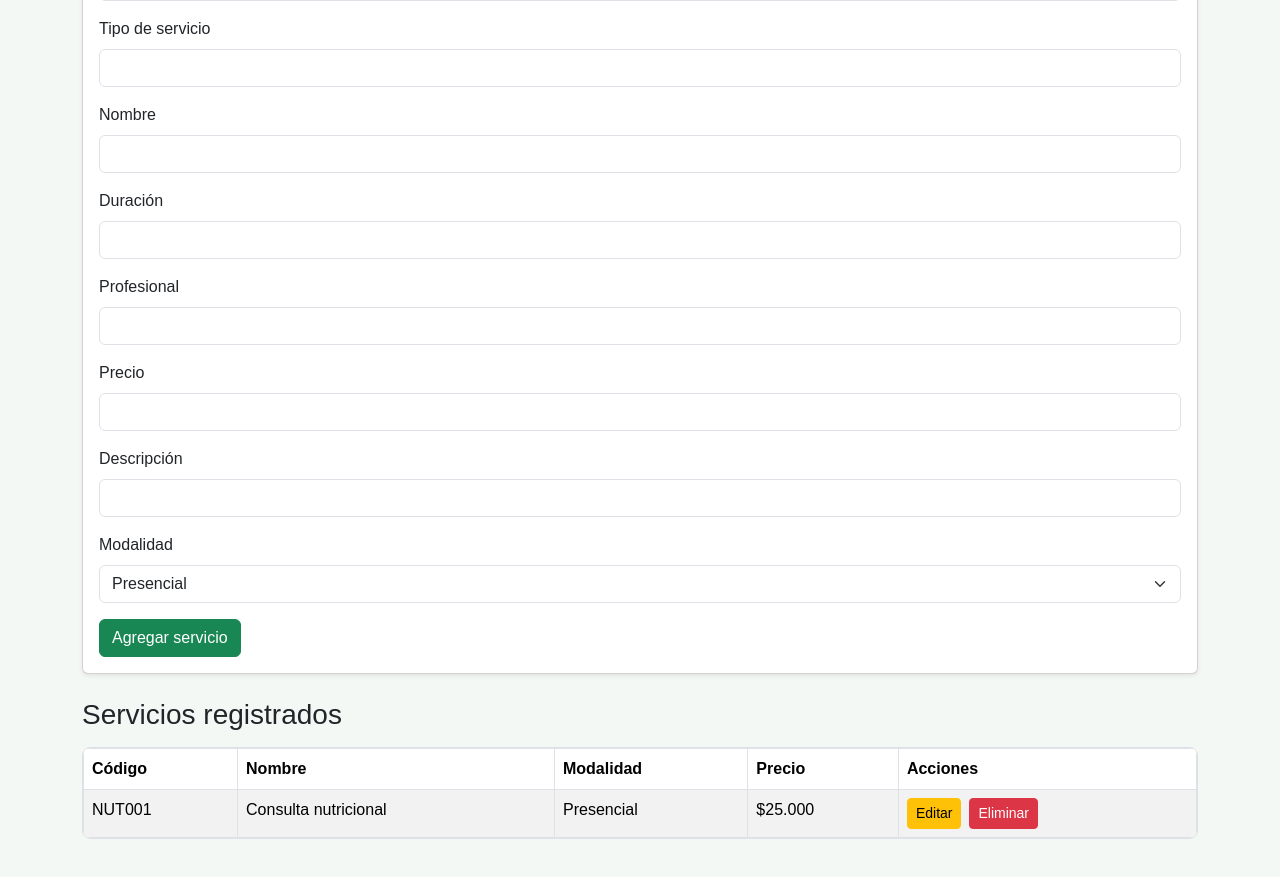
it: Administración de servicios de NutriVida › permite editar un servicio existente
This screenshot has width=1280, height=877.
(page scrolled)
Click the button "Editar" at (934, 814), box [907,798,962,829]
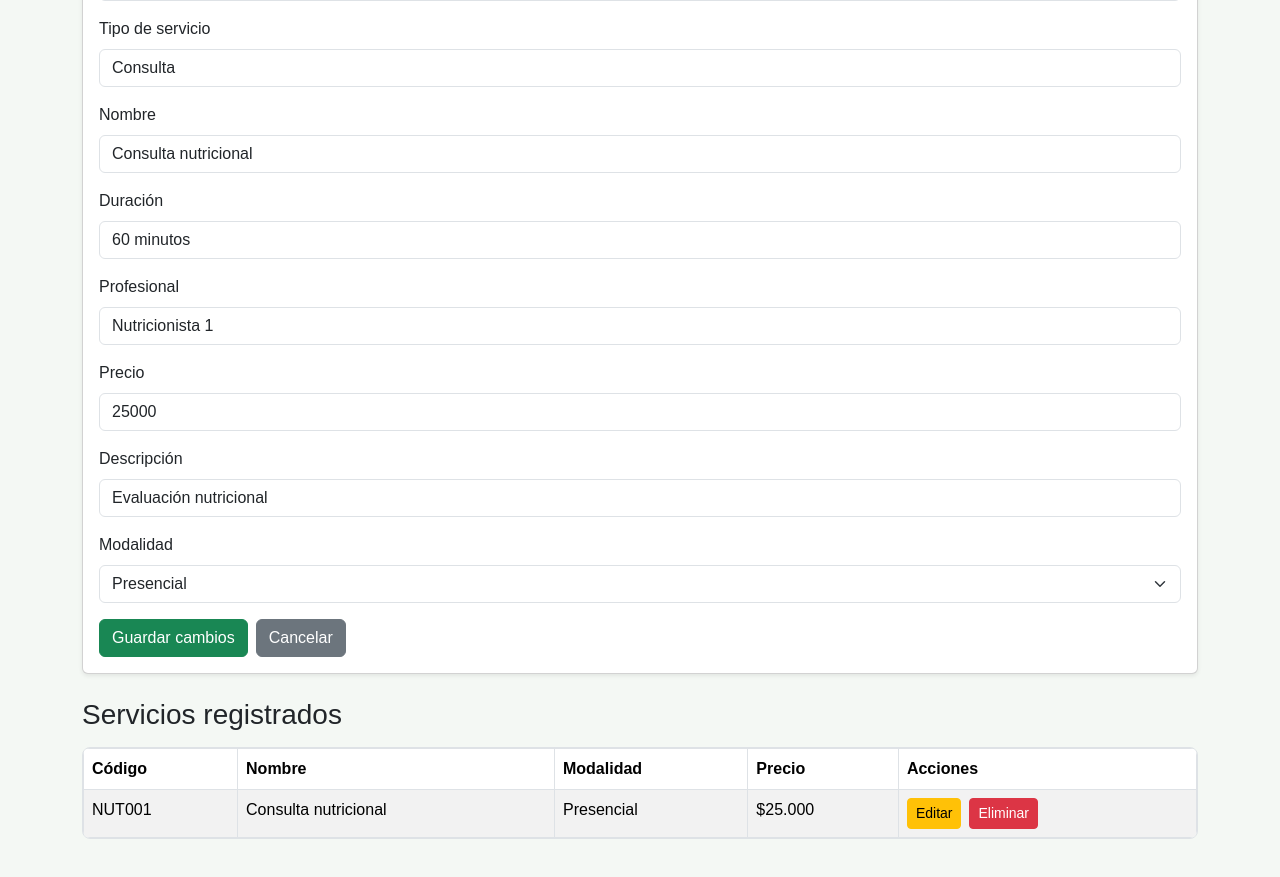
Replace the text in the 3rd field named "nombre" with "Consulta nutricional actualizada" at (640, 154), box [99,135,1181,173]
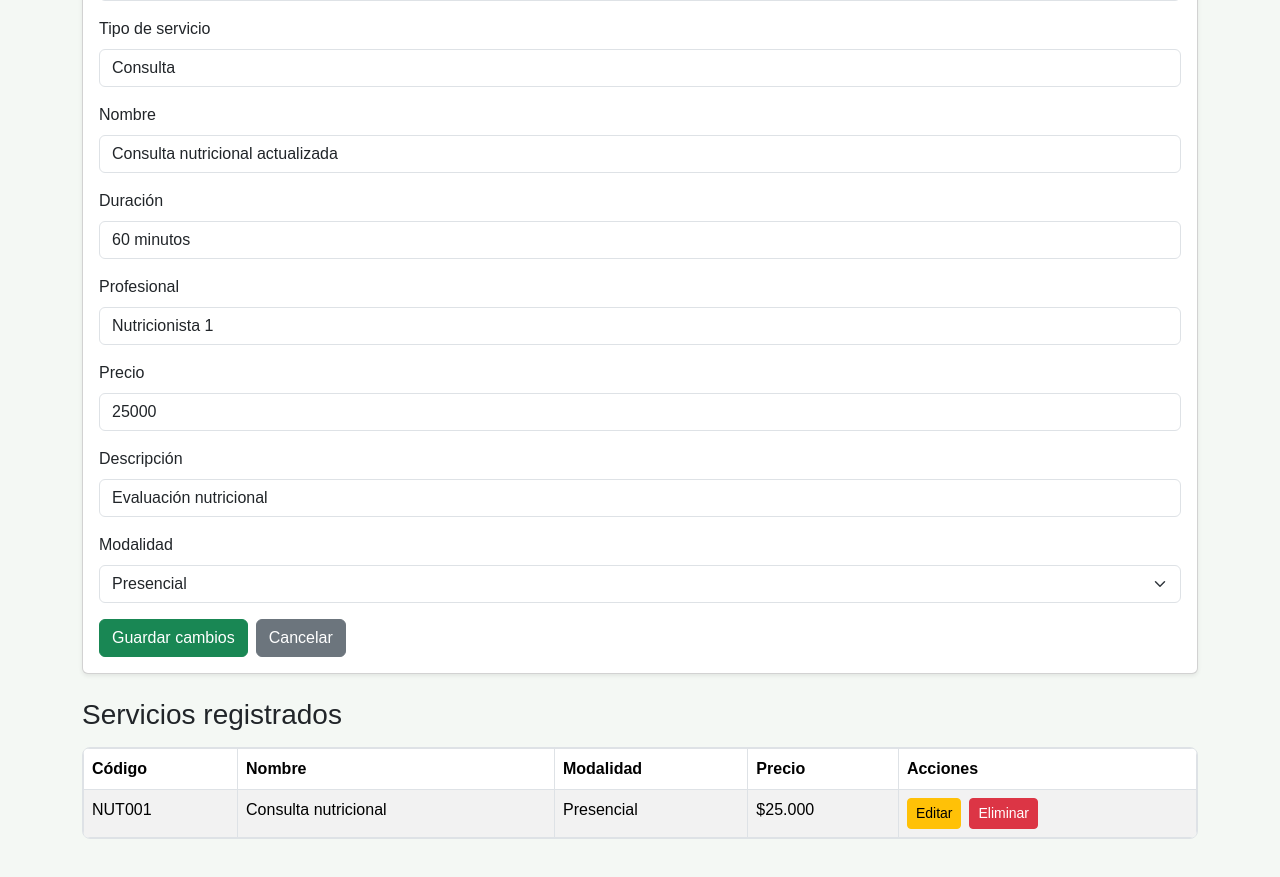
Click the button "Guardar cambios" at (173, 638), box [99,619,248,657]
(page scrolled)
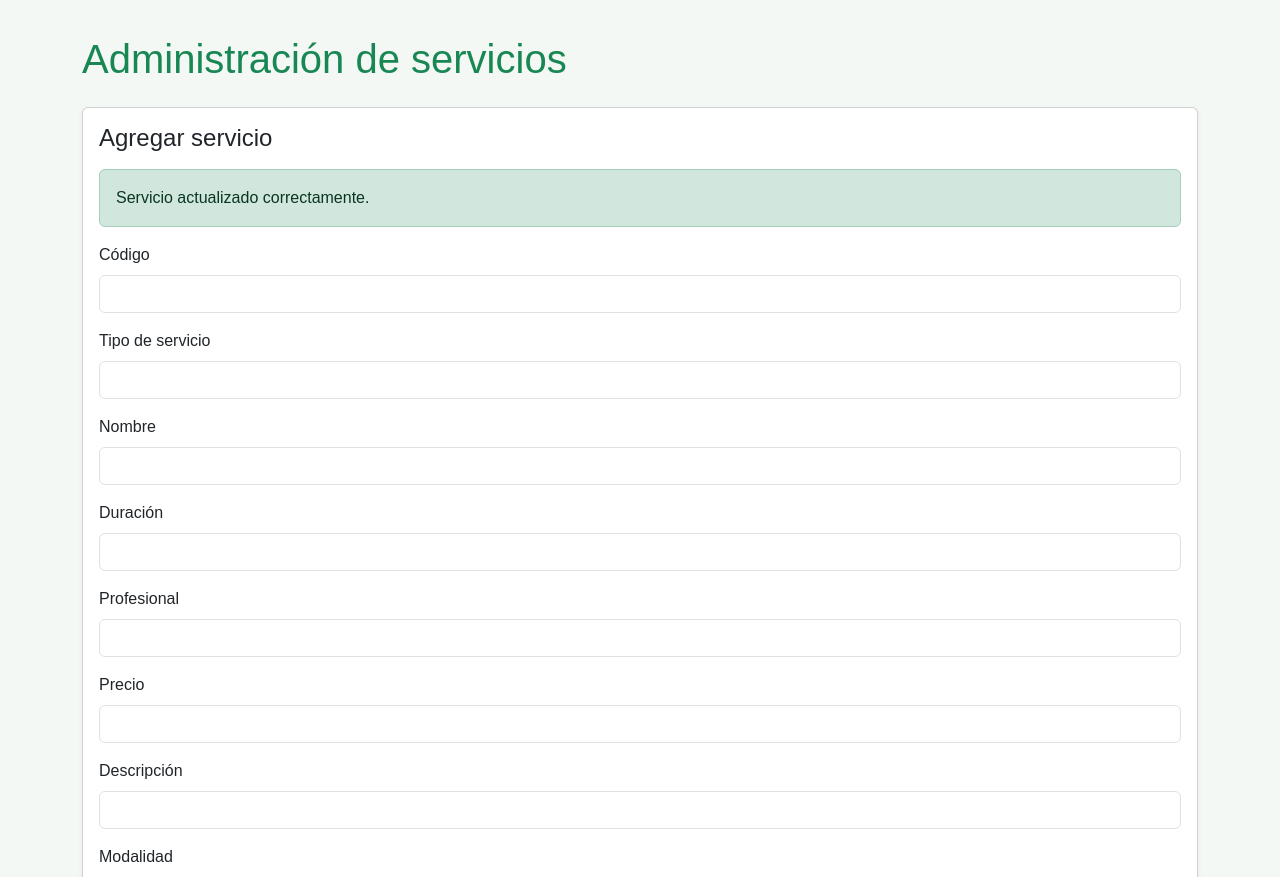
Check: the text "Servicio actualizado correctamente." is shown, box [99,169,1181,227]
